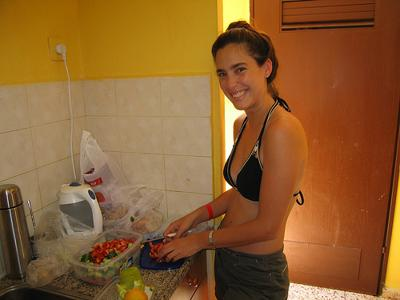person: (146, 22, 309, 300)
